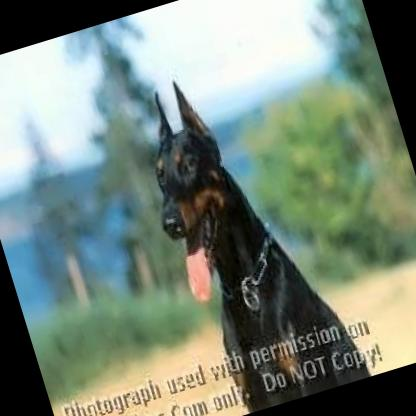Doberman: (119, 45, 370, 416)
